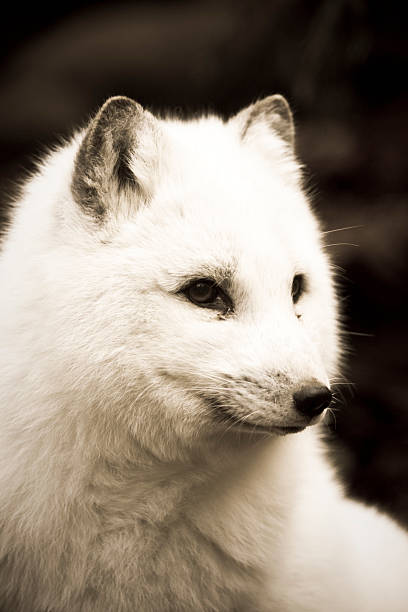arcticfox: (118, 180, 330, 454)
